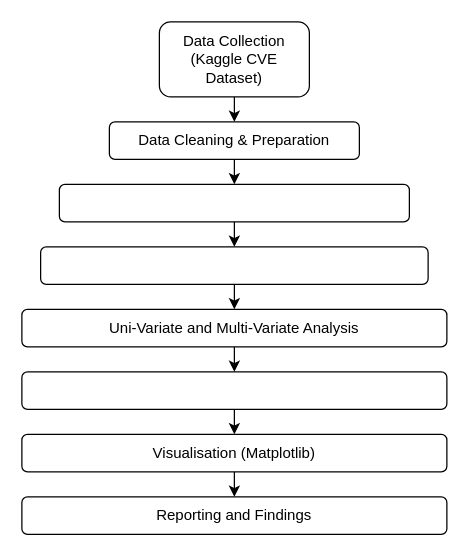
This 469x556 diagram has some shape labels left out. The centre of each missing label's shape, as x and y in pixels:
Descriptive Analysis: pixel 233 265
Feature Encoding (Label Encoder): pixel 233 202
Predictive Analysis: pixel 234 390
